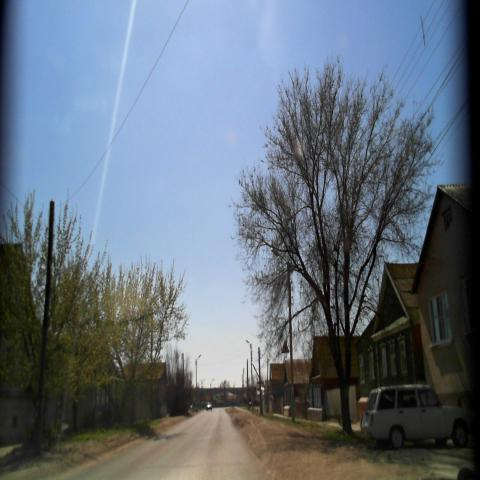2_3_3: (282, 339, 290, 356)
